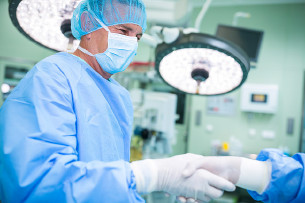face_mask: (95, 10, 143, 74)
